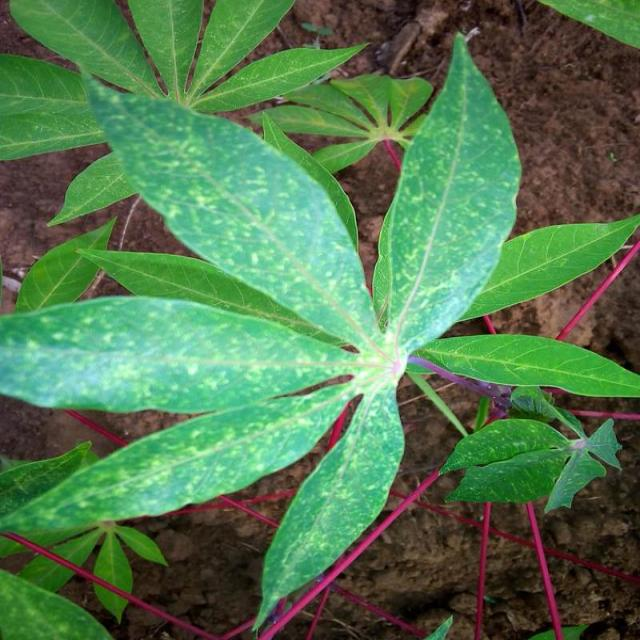cassava leaf: (2, 26, 638, 634), (82, 68, 380, 350), (372, 30, 523, 355)
